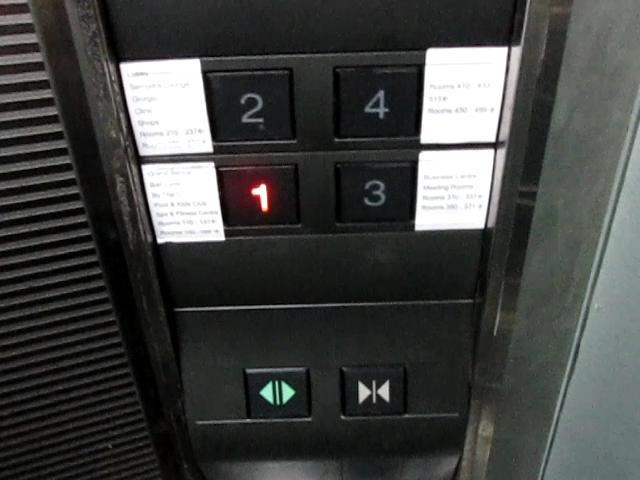1: (217, 165, 297, 228)
2: (203, 69, 297, 145)
3: (332, 162, 415, 224)
4: (331, 65, 423, 140)
close: (343, 367, 406, 417)
open: (243, 367, 311, 420)
